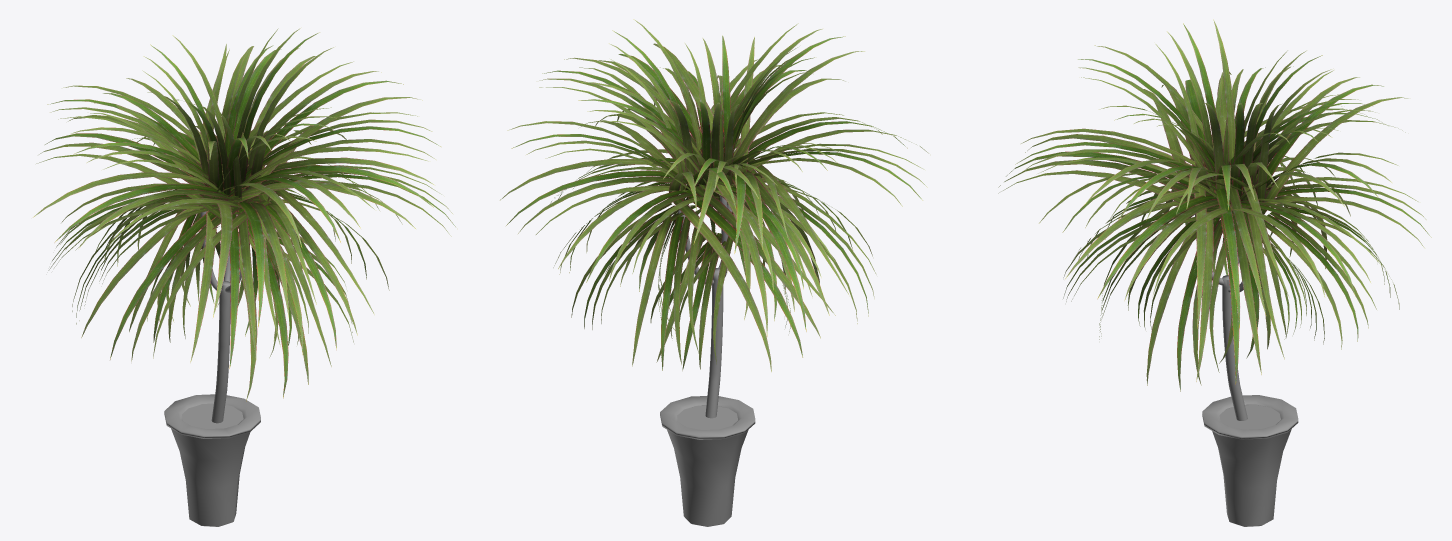
The model's file is Dracaena_leaf_lod0.fbx.
The picture shows the model from 3 angles, left to right: view 1: azimuth 30°, elevation 25°; view 2: azimuth 150°, elevation 25°; view 3: azimuth 270°, elevation 25°; orthographic projection.
Parts seen in each view (by area): view 1: Dracaena_leaf_lod0; view 2: Dracaena_leaf_lod0; view 3: Dracaena_leaf_lod0.
Boxes of the visible parts, box(x1,y1,x2,y2) form: Dracaena_leaf_lod0: box(33, 28, 455, 526); Dracaena_leaf_lod0: box(500, 19, 928, 526); Dracaena_leaf_lod0: box(998, 19, 1431, 526).
Size of the model in its own units: 112 by 128 by 115.
Materials: 3 (1 with a texture image).
